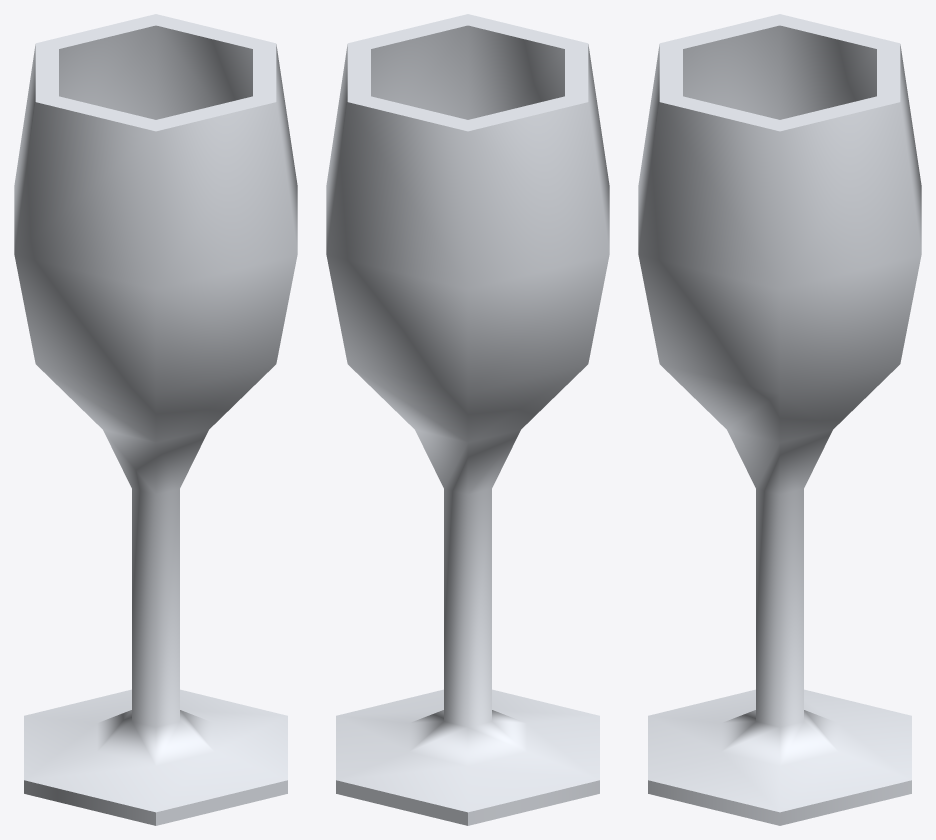
File: SM_Item_GlassCup_02.obj
3 renders of one model, left to right at view 1: azimuth 30°, elevation 25°; view 2: azimuth 150°, elevation 25°; view 3: azimuth 270°, elevation 25°, orthographic.
Visible parts, largest first — view 1: SM_Item_GlassCup_02_Mat_PolygonTown_Glass; view 2: SM_Item_GlassCup_02_Mat_PolygonTown_Glass; view 3: SM_Item_GlassCup_02_Mat_PolygonTown_Glass.
Part boxes in pixels (x1,y1,x2,y2): SM_Item_GlassCup_02_Mat_PolygonTown_Glass: (14, 14, 297, 825); SM_Item_GlassCup_02_Mat_PolygonTown_Glass: (326, 14, 609, 825); SM_Item_GlassCup_02_Mat_PolygonTown_Glass: (638, 14, 921, 825).
Size of the model in its own units: 0.1395 by 0.3241 by 0.1208.
1 material, 1 textured.
